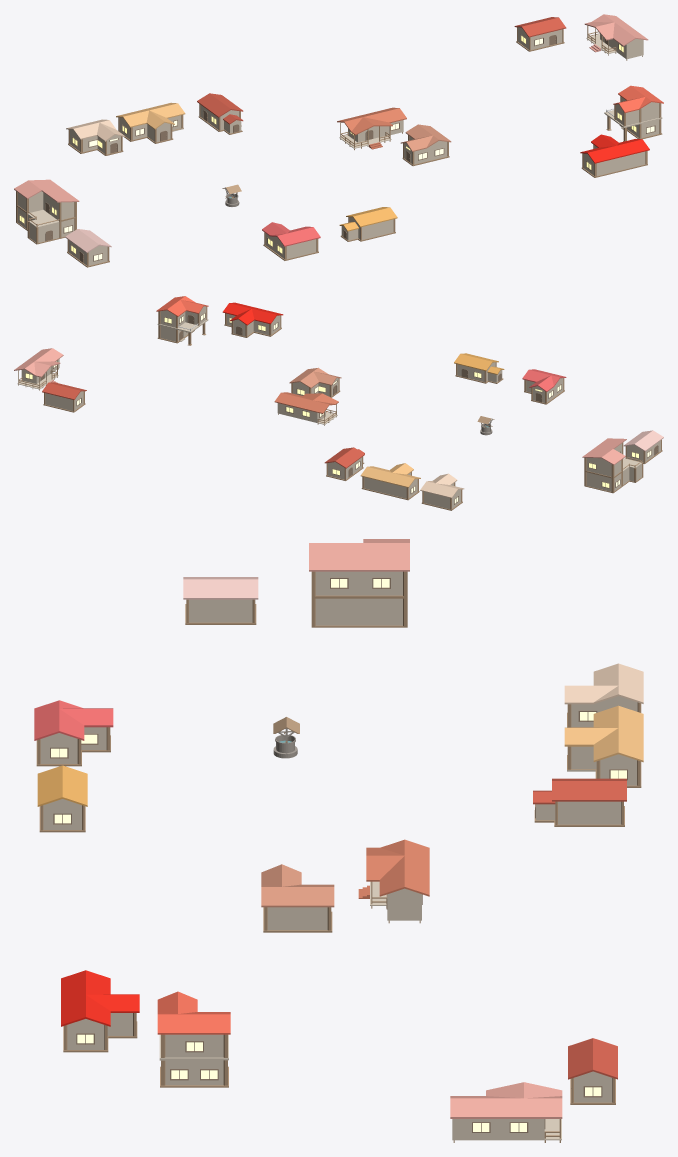
Rendered from desa1.fbx.
3 views of the same model, one above another, from view 1: azimuth 30°, elevation 25°; view 2: azimuth 150°, elevation 25°; view 3: azimuth 270°, elevation 25° (orthographic). The views are drawn at different scales.
Visible parts, largest first — view 1: Rumah6, Rumah3, Atap.009, Atap.007, Rumah9, Atap.002, Atap.011, Rumah7, Atap.006, Atap.014, Rumah12, Rumah13 (+14 smaller); view 2: Rumah6, Rumah3, Atap.011, Atap.007, Atap.009, Rumah7, Atap.002, Rumah9, Atap.006, Atap.001, Atap.010, Atap.003 (+14 smaller); view 3: Rumah6, Atap.002, Rumah3, Atap.006, Atap.007, Atap.009, Atap.011, Atap.010, Atap.003, Atap.001, Atap.014, Rumah5 (+14 smaller).
Boxes of the visible parts, box(x1,y1,x2,y2) form: Rumah6: box(16, 191, 76, 244); Rumah3: box(604, 96, 662, 141); Atap.009: box(580, 134, 649, 163); Atap.007: box(116, 102, 185, 129); Rumah9: box(581, 144, 647, 177); Atap.002: box(584, 14, 648, 46); Atap.011: box(337, 107, 406, 135); Rumah7: box(118, 115, 183, 143); Atap.006: box(14, 179, 79, 202); Atap.014: box(262, 222, 320, 246); Rumah12: box(340, 217, 395, 241); Rumah13: box(263, 232, 318, 260); Rumah6: box(584, 442, 643, 493); Rumah3: box(157, 306, 208, 345); Atap.011: box(274, 392, 338, 413); Atap.007: box(360, 463, 420, 487); Atap.009: box(222, 302, 283, 325); Rumah7: box(361, 472, 419, 500); Atap.002: box(14, 348, 63, 377); Rumah9: box(224, 313, 281, 337); Atap.006: box(582, 438, 626, 464); Atap.001: box(420, 473, 464, 498); Atap.010: box(289, 367, 341, 388); Atap.003: box(156, 296, 208, 316); Rumah6: box(311, 571, 407, 627); Atap.002: box(450, 1082, 562, 1118); Rumah3: box(159, 1034, 228, 1087); Atap.006: box(309, 539, 409, 571); Atap.007: box(564, 705, 643, 762); Atap.009: box(61, 970, 139, 1026); Atap.011: box(366, 839, 429, 896); Atap.010: box(261, 864, 334, 907); Atap.003: box(157, 991, 230, 1034); Atap.001: box(564, 663, 643, 704); Atap.014: box(34, 700, 113, 740); Rumah5: box(534, 801, 624, 826).
Size of the model in its own units: 15847 by 1939 by 34052.
